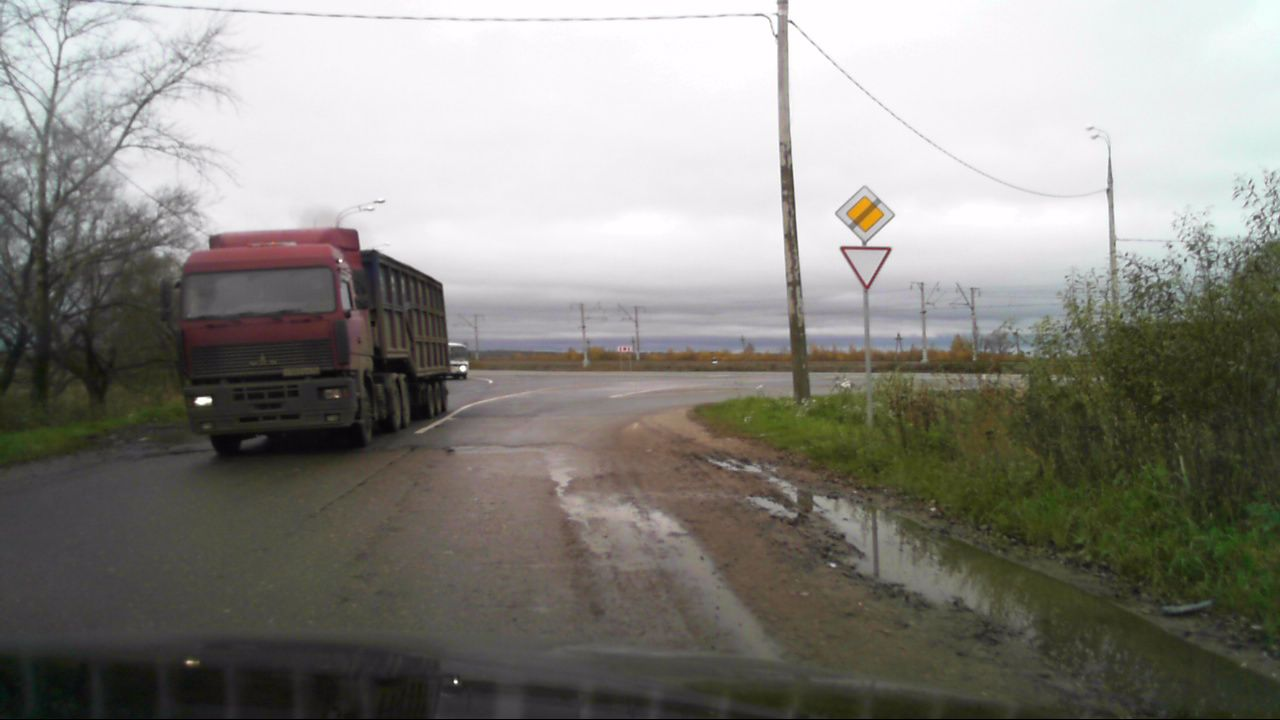main road: (833, 183, 895, 245)
